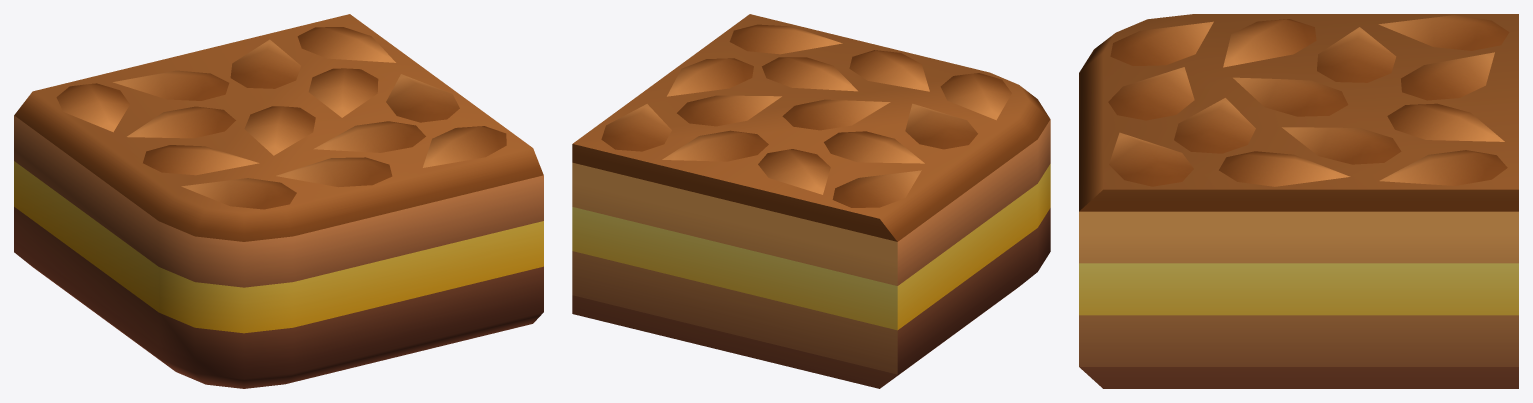
The model's file is m_Bienenstich03_Slice01.fbx.
3 renders of one model, left to right at view 1: azimuth 30°, elevation 25°; view 2: azimuth 150°, elevation 25°; view 3: azimuth 270°, elevation 25°, orthographic. The views are drawn at different scales.
Visible parts, largest first — view 1: m_Bienenstich03_Slice01; view 2: m_Bienenstich03_Slice01; view 3: m_Bienenstich03_Slice01.
Part boxes in pixels (x1,y1,x2,y2): m_Bienenstich03_Slice01: [14, 14, 543, 388]; m_Bienenstich03_Slice01: [572, 14, 1050, 388]; m_Bienenstich03_Slice01: [1079, 14, 1518, 388].
Bounding box in the file's own units: 10 × 5.3 × 10.
